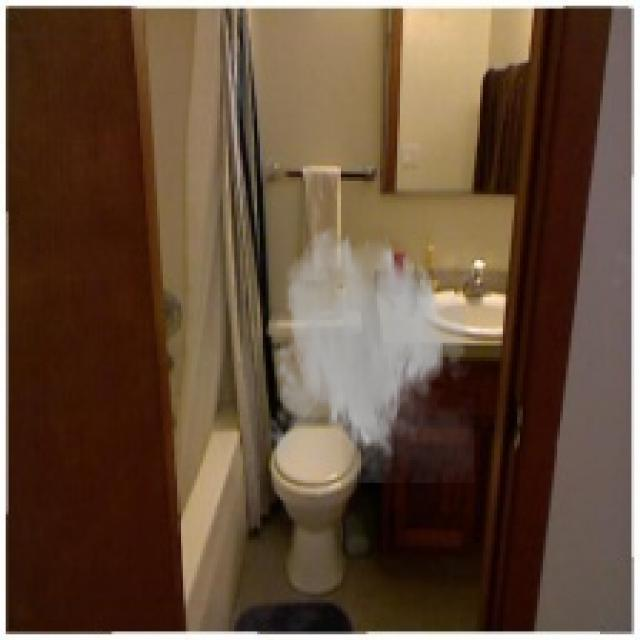Smoke: (262, 223, 474, 483)
